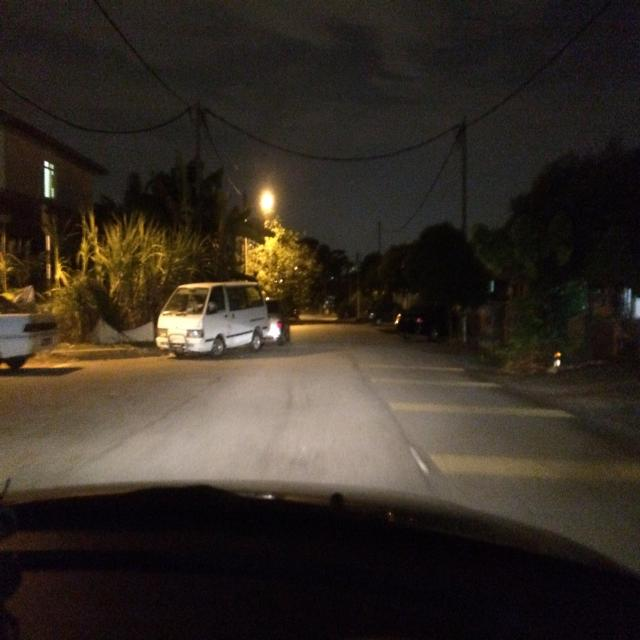Car: (143, 252, 287, 401)
